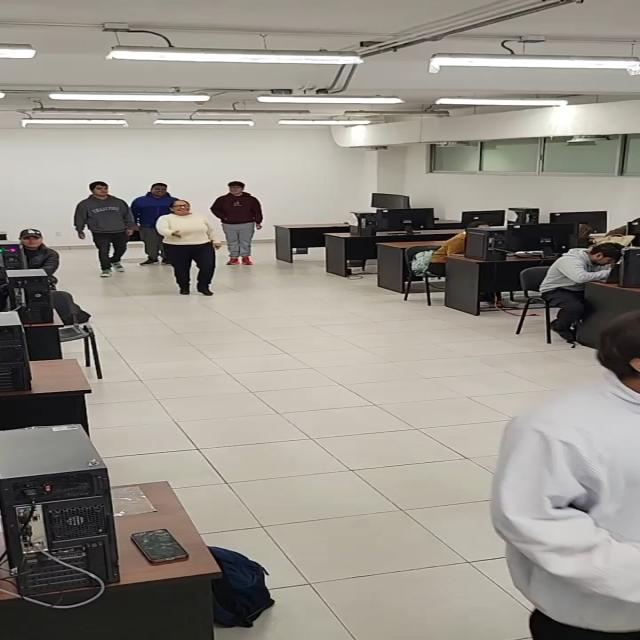Persona: (482, 306, 639, 640), (154, 198, 220, 298), (73, 178, 128, 280), (213, 179, 270, 270), (134, 178, 168, 268)
